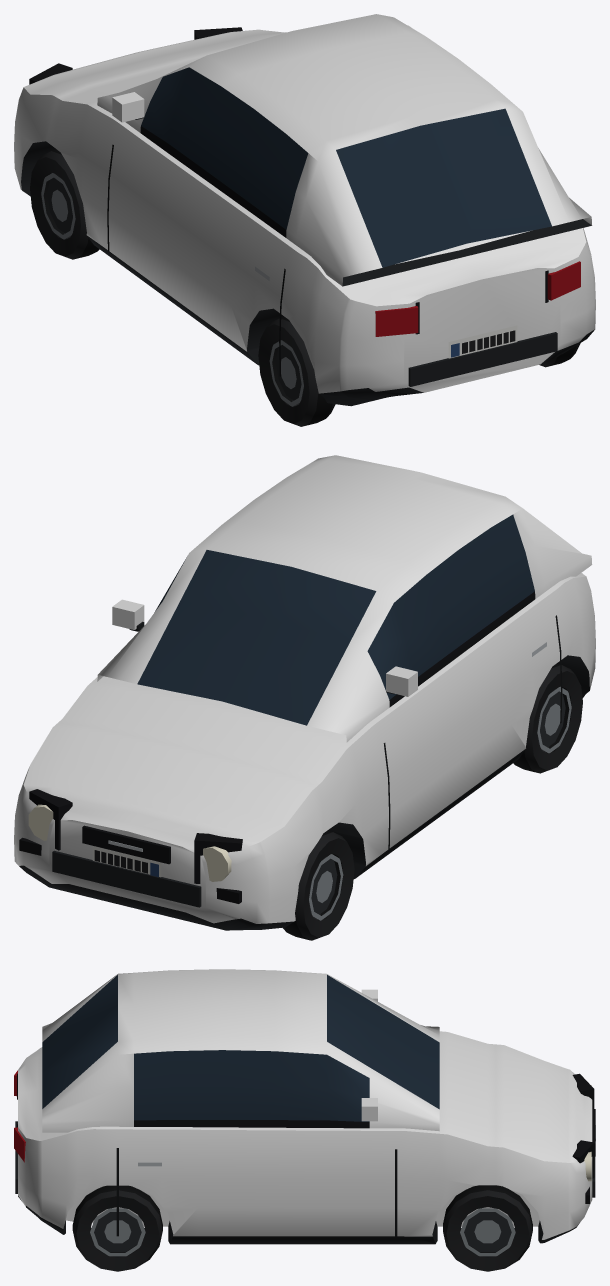
File: small.glb
The picture shows the model from 3 angles, top to bottom: view 1: azimuth 30°, elevation 25°; view 2: azimuth 150°, elevation 25°; view 3: azimuth 270°, elevation 25°; orthographic projection. The views are drawn at different scales.
Parts seen in each view (by area): view 1: small; view 2: small; view 3: small.
Part boxes in pixels (box(x1,y1,x2,y2)): small: box(14, 14, 595, 426); small: box(14, 455, 595, 940); small: box(14, 969, 595, 1271).
Size of the model in its own units: 1.72 by 1.51 by 3.62.
